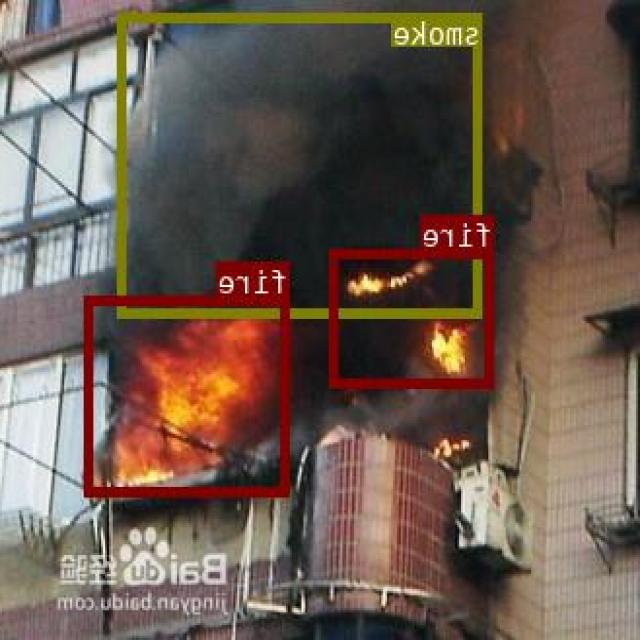fire: (86, 295, 291, 495), (332, 248, 496, 386)
smoke: (120, 11, 483, 316)
